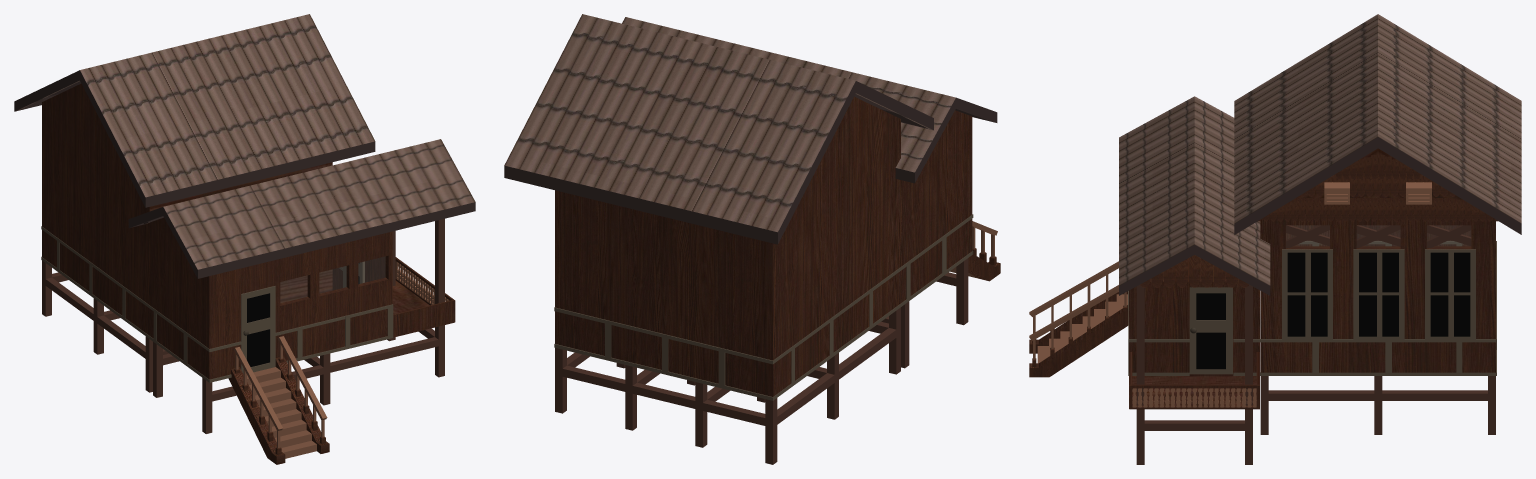
The model's file is rumah3saka.fbx.
The picture shows the model from 3 angles, left to right: view 1: azimuth 30°, elevation 25°; view 2: azimuth 150°, elevation 25°; view 3: azimuth 270°, elevation 25°; orthographic projection. The views are drawn at different scales.
Visible parts, largest first — view 1: Cube.002, Cube.001, Cube, Cube.003, Rumah.009, Pintu.001, Rumah.002, Cube.021, Cube.025, Cube.013, Cube.015, Cube.017 (+6 smaller); view 2: Cube.003, Cube.002, Cube, Cube.001, Cube.013, Cube.014, Cube.021, Cube.017, Cube.023, Rumah.009, Cube.010, Cube.011; view 3: Cube.002, Cube.001, Cube.003, Rumah.010, Cube, Rumah.009, Rumah.006, Pintu, Rumah.002, Cube.027, Cube.035, Rumah.003 (+14 smaller).
Part boxes in pixels (x1,y1,x2,y2): Cube.002: (14, 14, 375, 207); Cube.001: (128, 139, 475, 278); Cube: (149, 217, 392, 379); Cube.003: (42, 83, 332, 335); Rumah.009: (228, 336, 329, 464); Pintu.001: (241, 286, 275, 373); Rumah.002: (393, 257, 455, 337); Cube.021: (41, 226, 209, 382); Cube.025: (212, 337, 438, 401); Cube.013: (42, 260, 152, 392); Cube.015: (275, 304, 393, 363); Cube.017: (45, 277, 145, 358); Cube.003: (555, 96, 900, 396); Cube.002: (504, 14, 933, 244); Cube: (901, 110, 972, 302); Cube.001: (622, 17, 997, 183); Cube.013: (555, 307, 900, 464); Cube.014: (554, 307, 773, 400); Cube.021: (773, 215, 972, 400); Cube.017: (567, 328, 896, 424); Cube.023: (562, 365, 765, 425); Rumah.009: (950, 221, 1000, 281); Cube.010: (956, 258, 968, 325); Cube.011: (901, 301, 909, 368); Cube.002: (1234, 14, 1521, 234); Cube.001: (1119, 96, 1270, 295); Cube.003: (1260, 148, 1495, 372); Rumah.010: (1282, 249, 1475, 339); Cube: (1129, 281, 1259, 373); Rumah.009: (1029, 261, 1128, 377); Rumah.006: (1258, 198, 1498, 221); Pintu: (1189, 287, 1232, 374); Rumah.002: (1129, 352, 1259, 409); Cube.027: (1233, 339, 1495, 375); Cube.035: (1129, 374, 1256, 408); Rumah.003: (1140, 255, 1248, 287).
Size of the model in its own units: 1002 by 991 by 1405.
19 materials, 7 textured.
